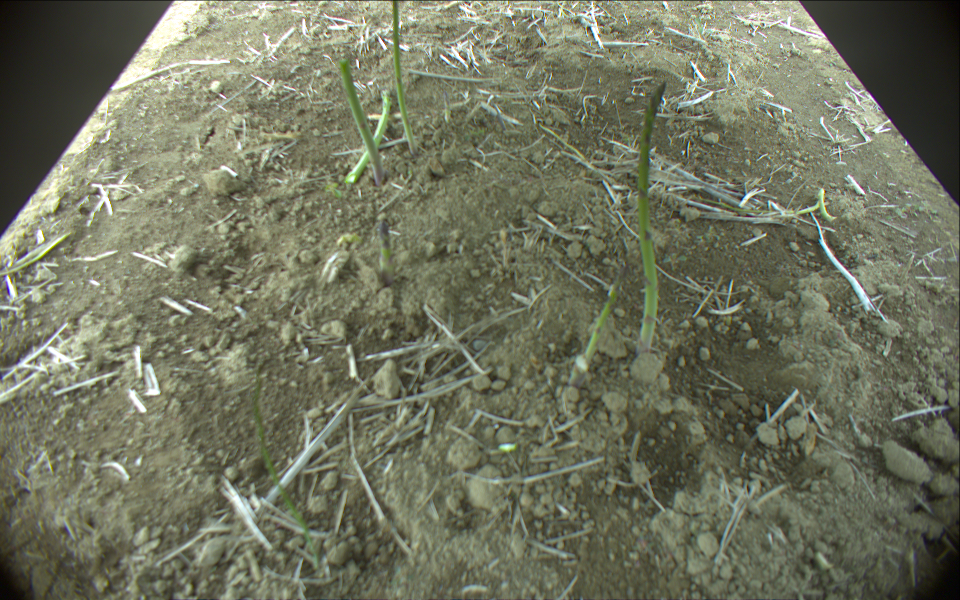aspa: (251, 376, 325, 573), (570, 235, 626, 387), (639, 82, 668, 358), (341, 61, 388, 184), (691, 187, 838, 221), (387, 1, 417, 156), (346, 87, 389, 183), (1, 232, 71, 275), (379, 217, 394, 285)
